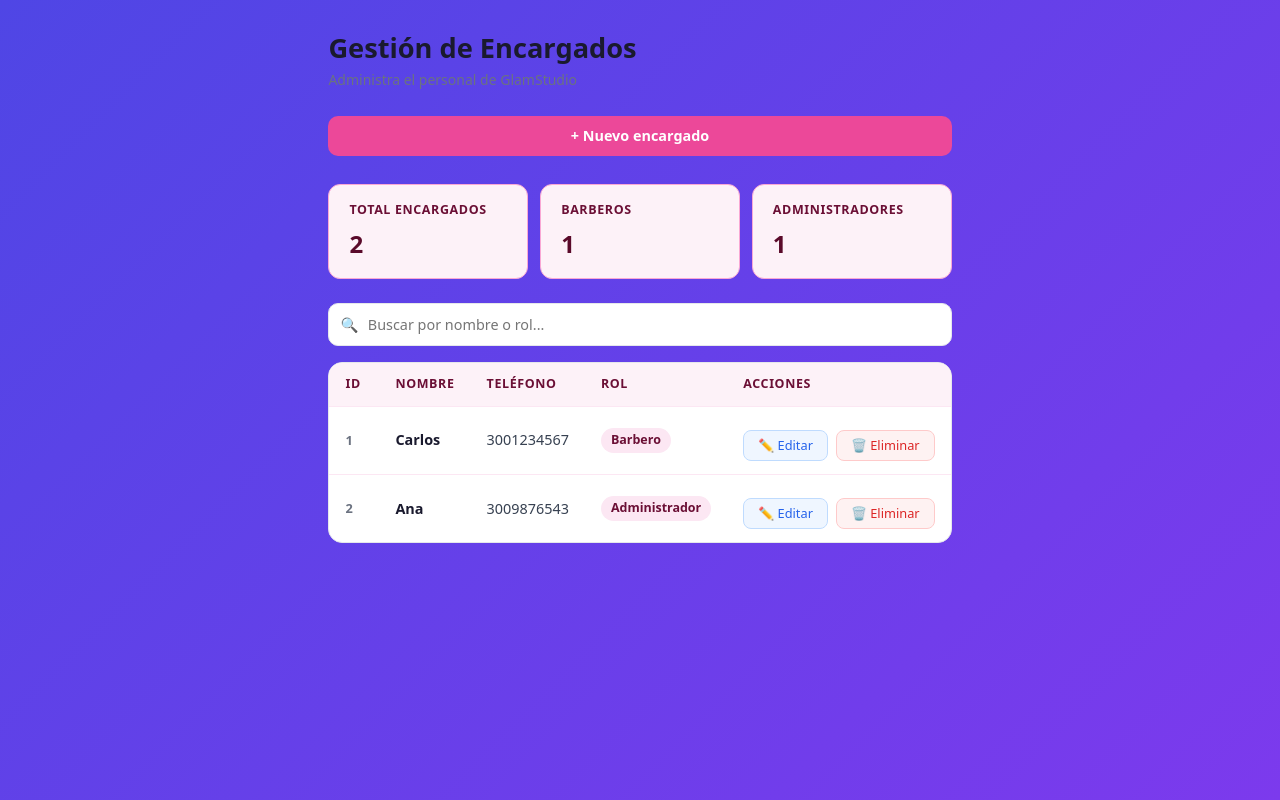
it: GestionEncargados › muestra error si nombre está vacío al guardar
The image size is (1280, 800).
Click the button "+ Nuevo encargado": coordinates (640, 136) [328, 116, 952, 156]
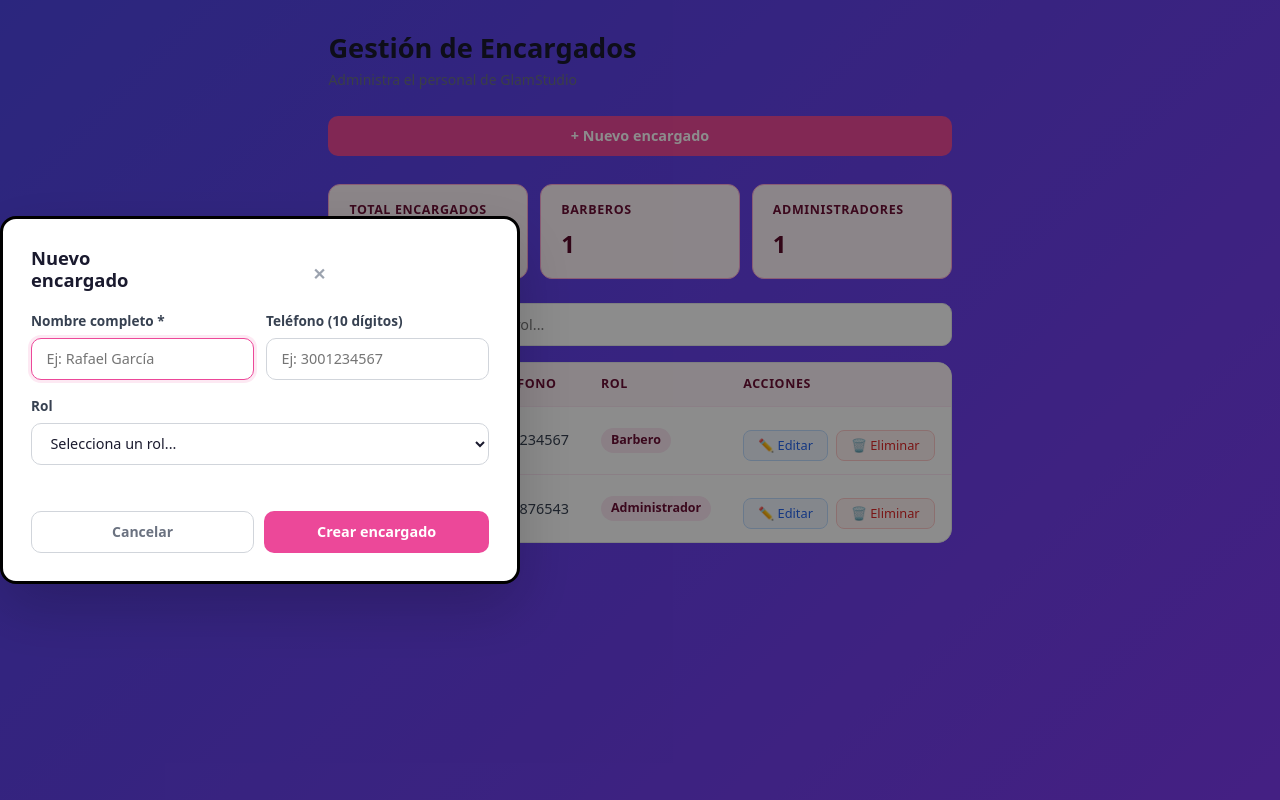
Click the button "Crear encargado": coordinates (377, 532) [264, 511, 489, 553]
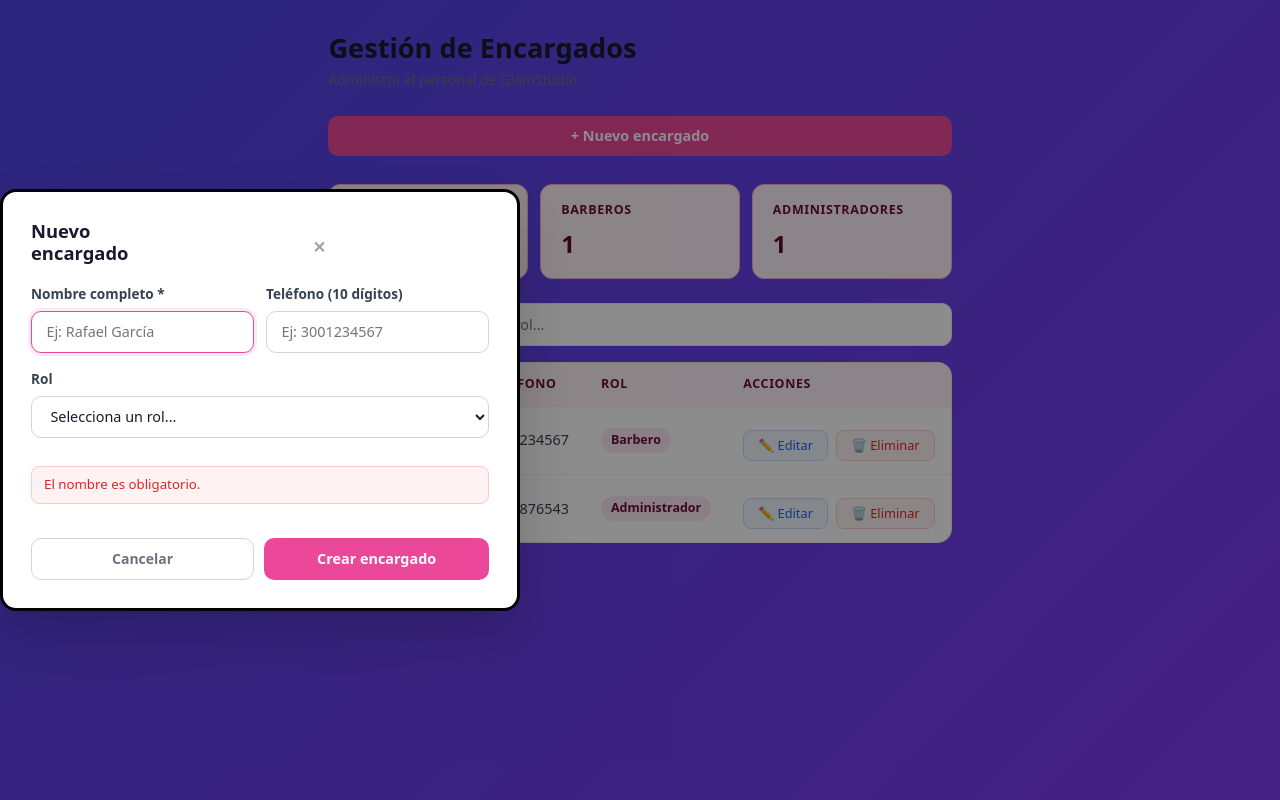
Now the text "El nombre es obligatorio." is shown, box [31, 466, 489, 504]
